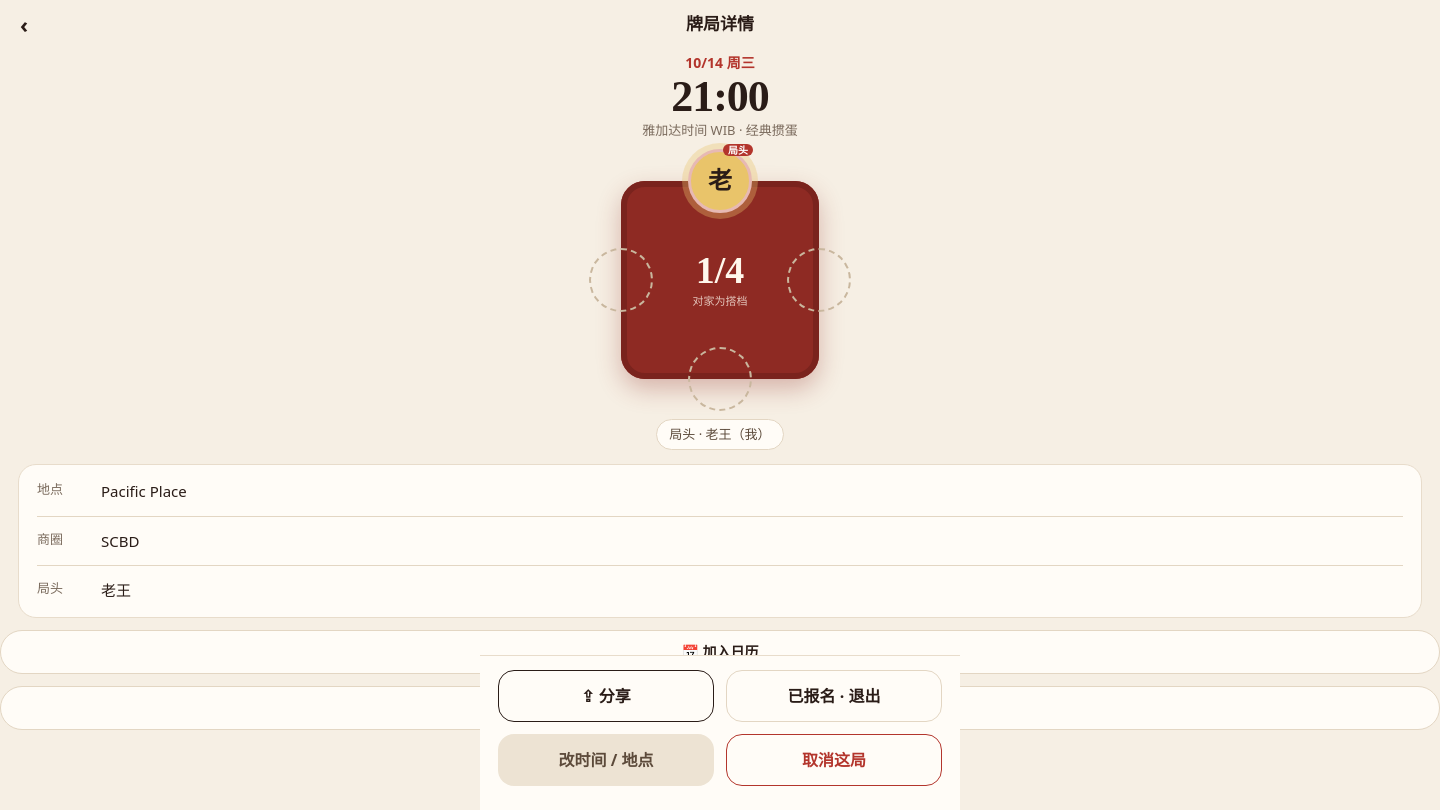
it: 分享入口 › 底部有「⇪ 分享」，点开面板
Click the button "⇪ 分享". click: (606, 696)
box: [498, 670, 714, 722]
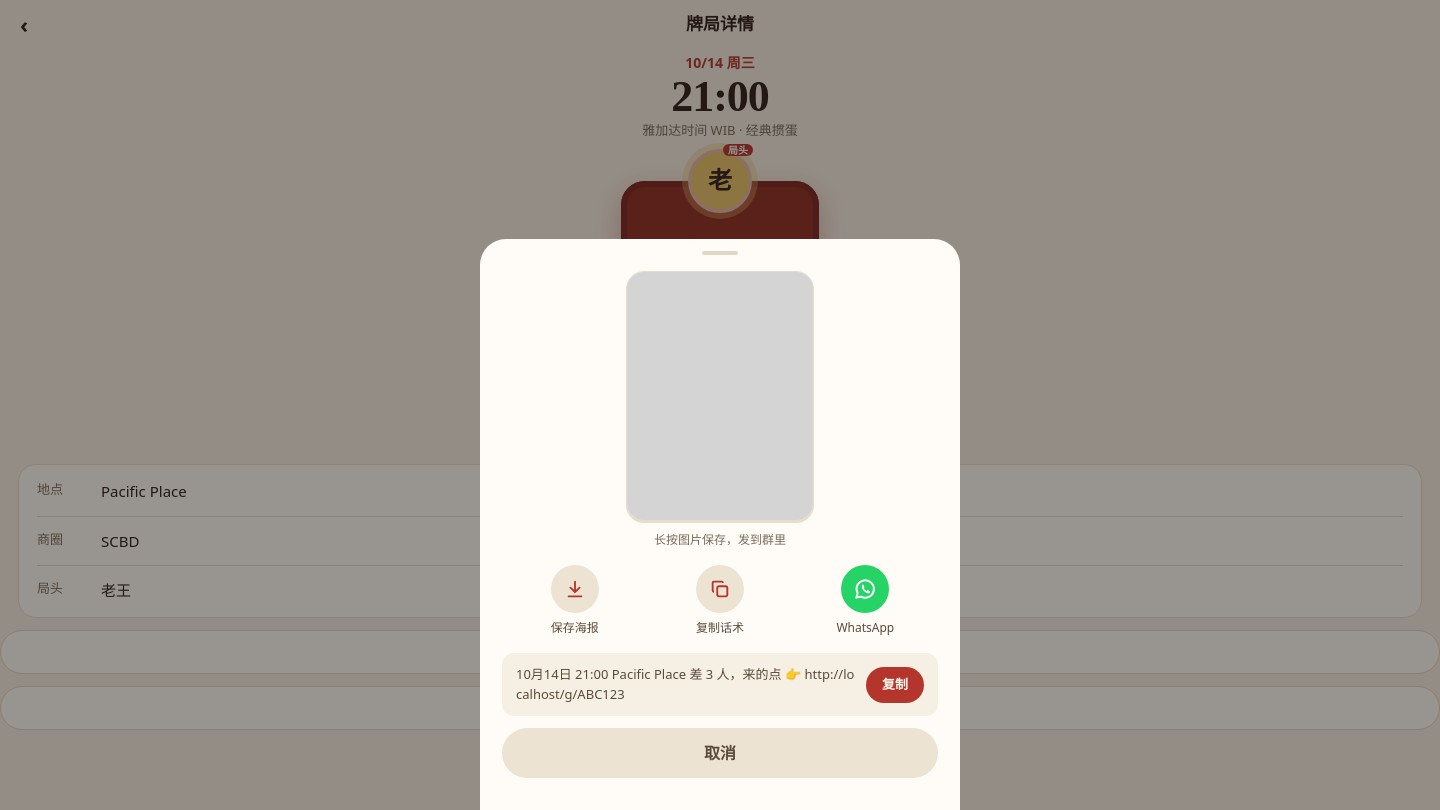
Result: the dialog with test id "share-sheet" is shown at [480, 239, 960, 809]
Result: the text "差 3 人" is shown at [516, 665, 854, 702]
